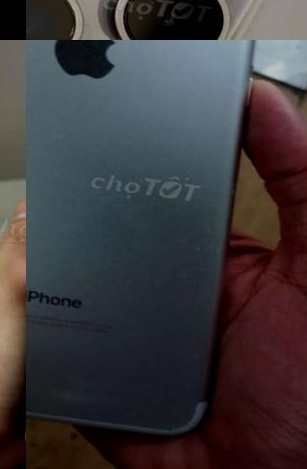scratch: (26, 0, 249, 40), (169, 311, 230, 409), (30, 386, 137, 426), (178, 212, 232, 280), (125, 263, 157, 289), (163, 421, 187, 443)
